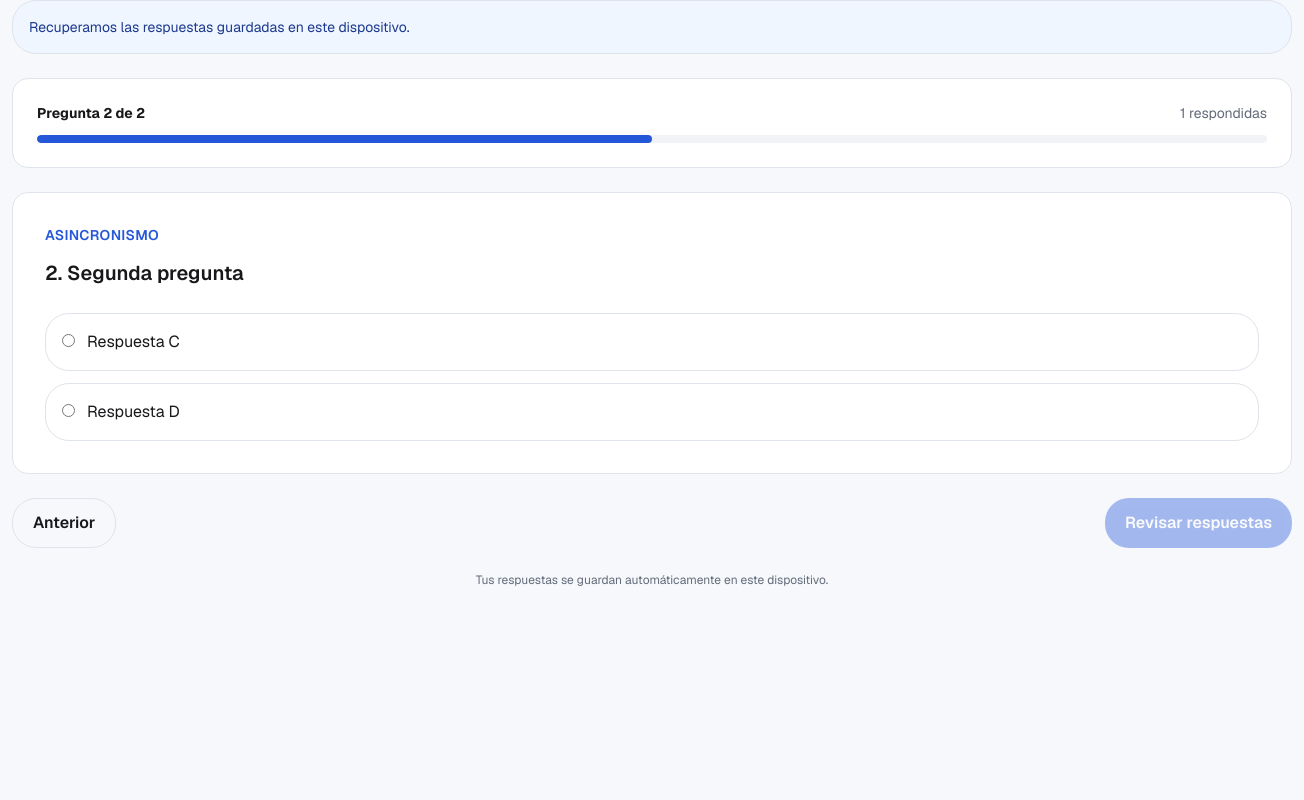
Test: JavascriptAssessmentForm › recupera respuestas y posición desde el borrador local
The image size is (1304, 800).
Check: the heading "2. Segunda pregunta" is shown, box [45,260,244,286]
Check: the text "Recuperamos las respuestas guardadas en este dispositivo." is shown, box [12,0,1292,54]
Click the button "Anterior" at (64, 523), box [12,498,116,548]
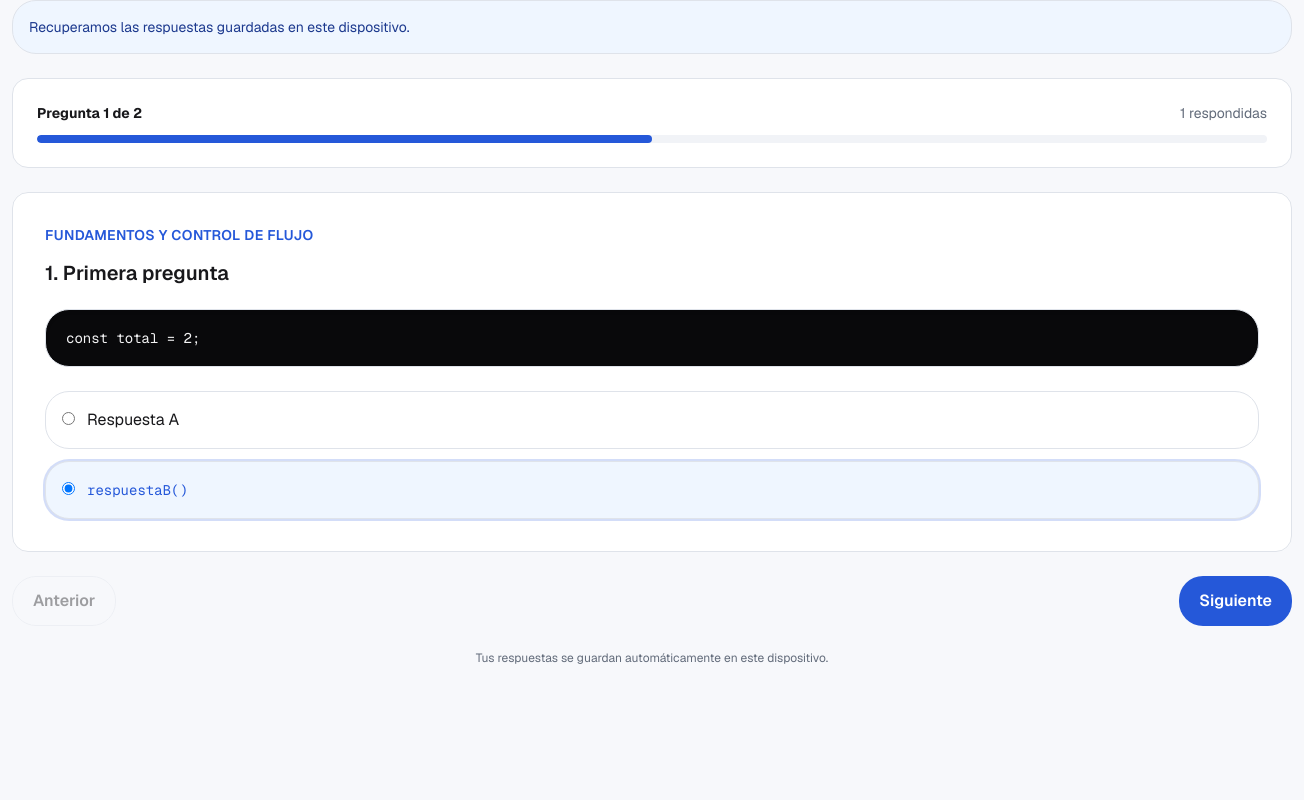
Check: the radio button labelled "respuestaB()" is checked, box [62,482,75,495]
